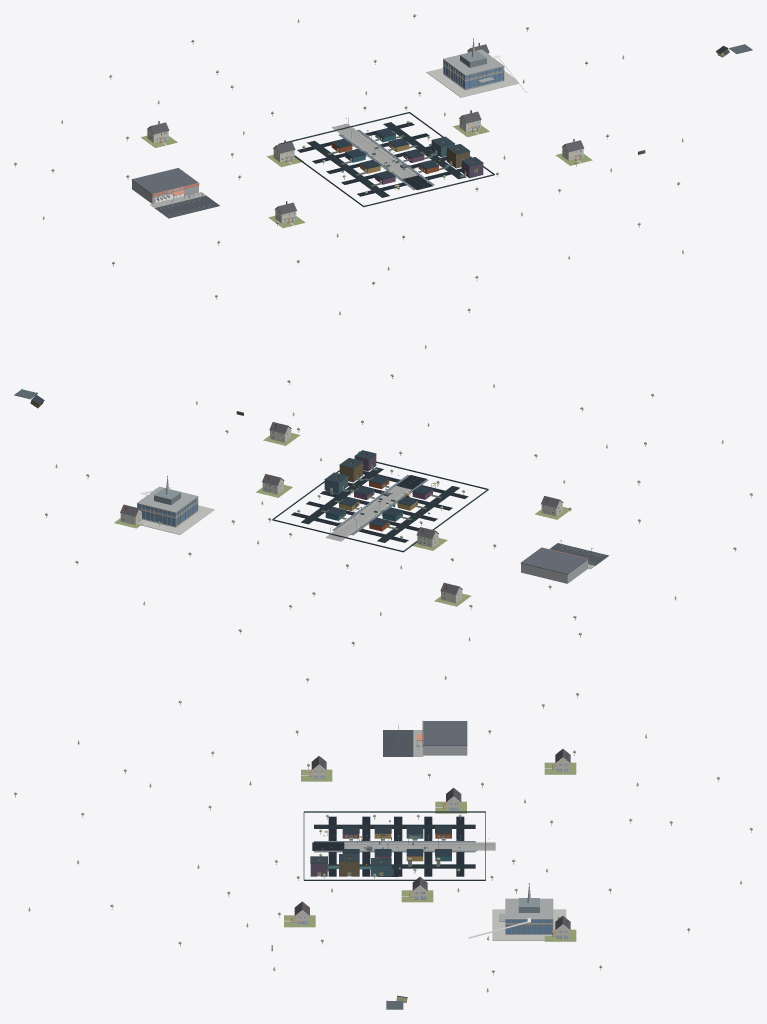
File: mars_scenery.glb
3 views of the same model, one above another, from view 1: azimuth 30°, elevation 25°; view 2: azimuth 150°, elevation 25°; view 3: azimuth 270°, elevation 25° (orthographic). The views are drawn at different scales.
Visible parts, largest first — view 1: environment; view 2: environment; view 3: environment.
Boxes of the visible parts, x1,y1,x2,y2 form: environment: (14,14,752,315); environment: (14,345,752,646); environment: (14,675,752,1009).
Bounding box in the file's own units: 501 × 27.9 × 440.
